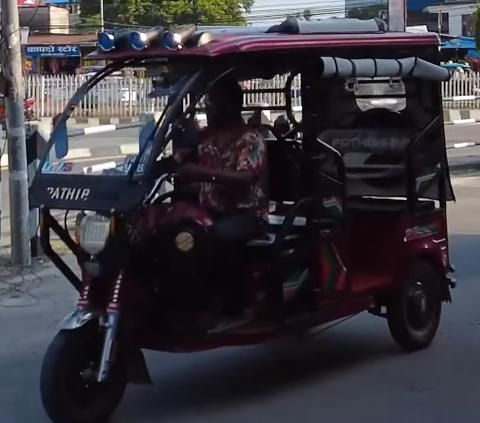e-rickshaw: (29, 17, 456, 423)
